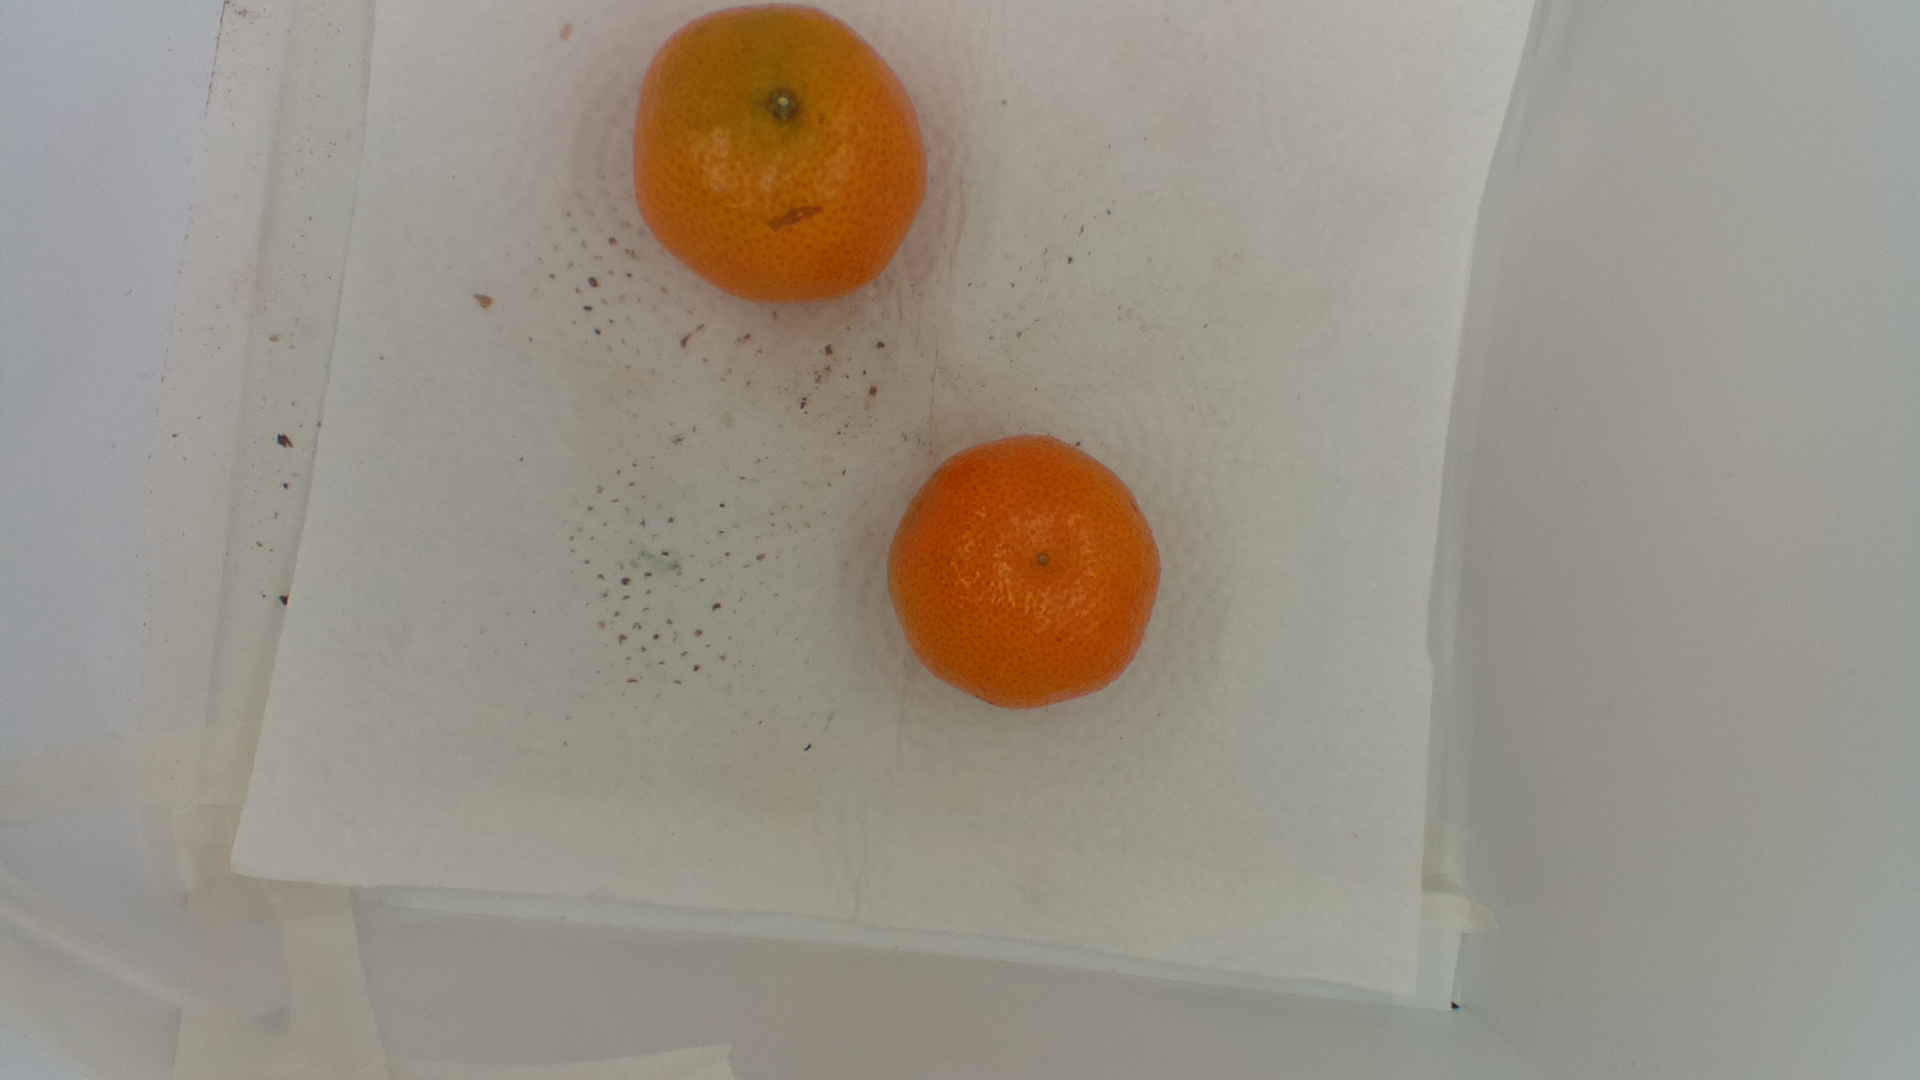fruit: (629, 1, 930, 313), (886, 430, 1164, 719)
